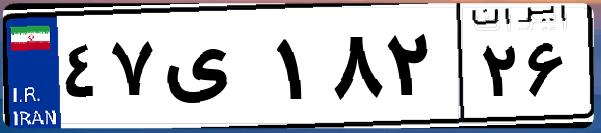1: (270, 28, 330, 110)
2: (385, 28, 445, 110), (475, 38, 525, 113)
4: (57, 26, 110, 100)
6: (525, 38, 570, 115)
7: (110, 28, 158, 98)
8: (330, 28, 385, 110)
ی: (158, 20, 270, 120)
